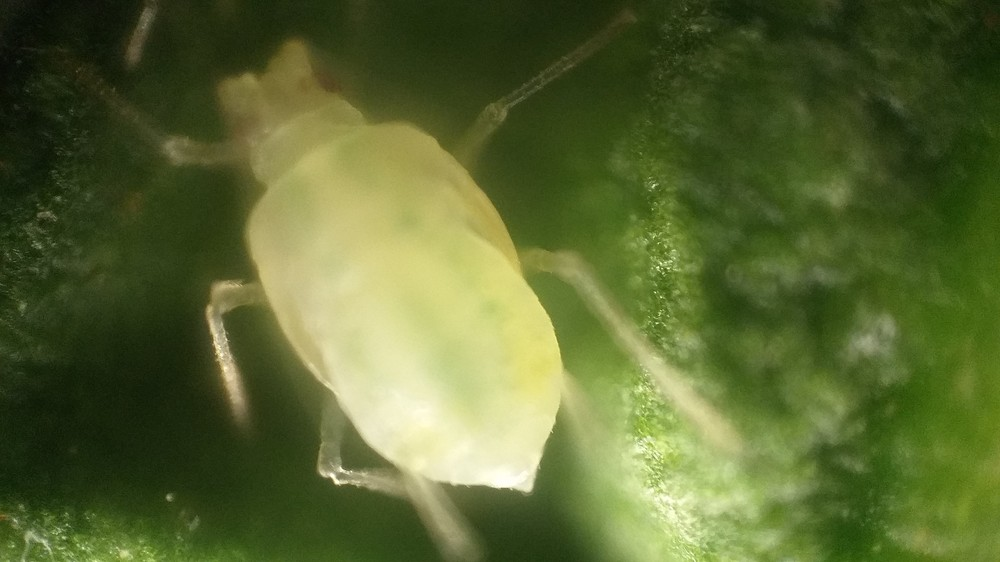Pulgon: (113, 5, 737, 554)
